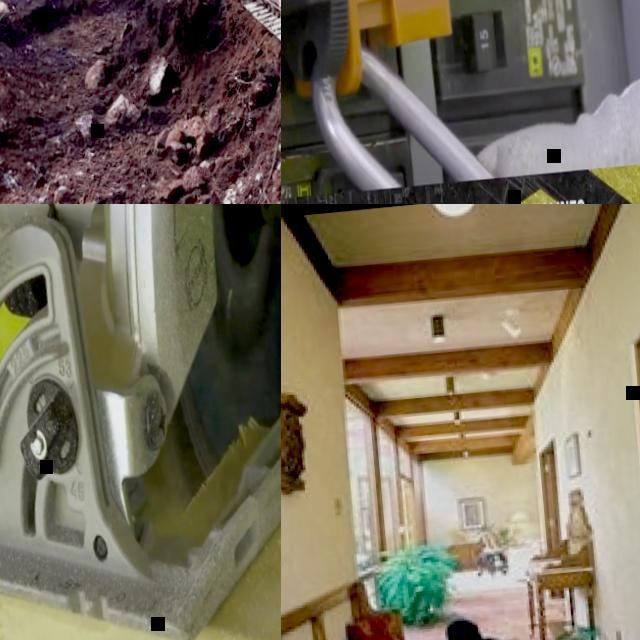Person: (474, 28, 640, 178)
